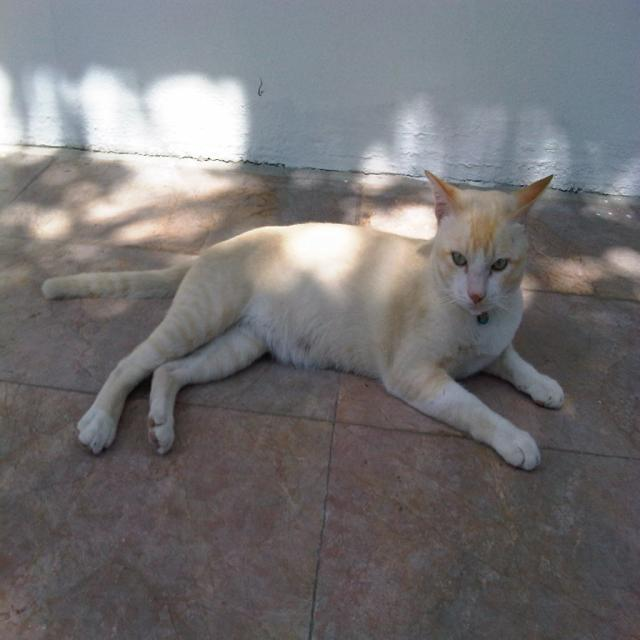Cat: (41, 169, 564, 469)
